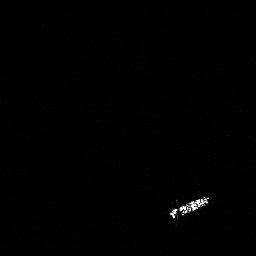ship: (167, 195, 210, 224)
